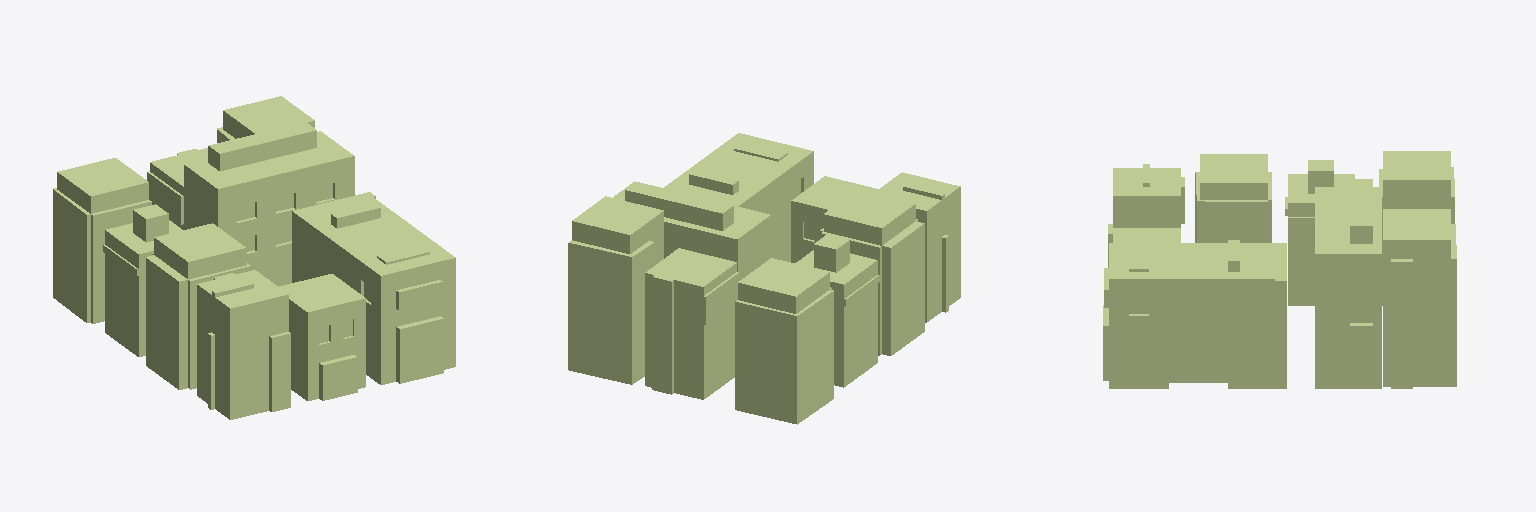
The model's file is city_003.obj.
3 renders of one model, left to right at view 1: azimuth 30°, elevation 25°; view 2: azimuth 150°, elevation 25°; view 3: azimuth 270°, elevation 25°, orthographic.
Parts seen in each view (by area): view 1: Box010, Box016, Box003, Box013, Box017, Box009, Box014, Box011, Box012; view 2: Box013, Box011, Box012, Box017, Box010, Box016, Box014, Box003, Box009; view 3: Box010, Box016, Box011, Box017, Box014, Box003, Box013, Box009.
Part boxes in pixels (x1,y1,x2,y2): Box010: (292, 192, 455, 384); Box016: (184, 122, 354, 286); Box003: (197, 270, 290, 419); Box013: (53, 158, 151, 323); Box017: (146, 223, 250, 389); Box009: (279, 274, 365, 400); Box014: (103, 204, 182, 356); Box011: (217, 96, 314, 142); Box012: (147, 148, 207, 229); Box013: (735, 258, 833, 424); Box011: (568, 196, 663, 384); Box012: (645, 248, 739, 399); Box017: (820, 189, 924, 355); Box010: (664, 133, 813, 261); Box016: (613, 181, 770, 279); Box014: (795, 235, 879, 387); Box003: (874, 172, 960, 322); Box009: (791, 176, 877, 262); Box010: (1103, 240, 1286, 388); Box016: (1315, 179, 1381, 388); Box011: (1383, 211, 1456, 388); Box017: (1195, 154, 1271, 242); Box014: (1285, 160, 1354, 305); Box003: (1108, 164, 1184, 267); Box013: (1379, 151, 1454, 305); Box009: (1113, 228, 1180, 242).
Bounding box in the file's own units: 4.74 × 2.96 × 6.2.